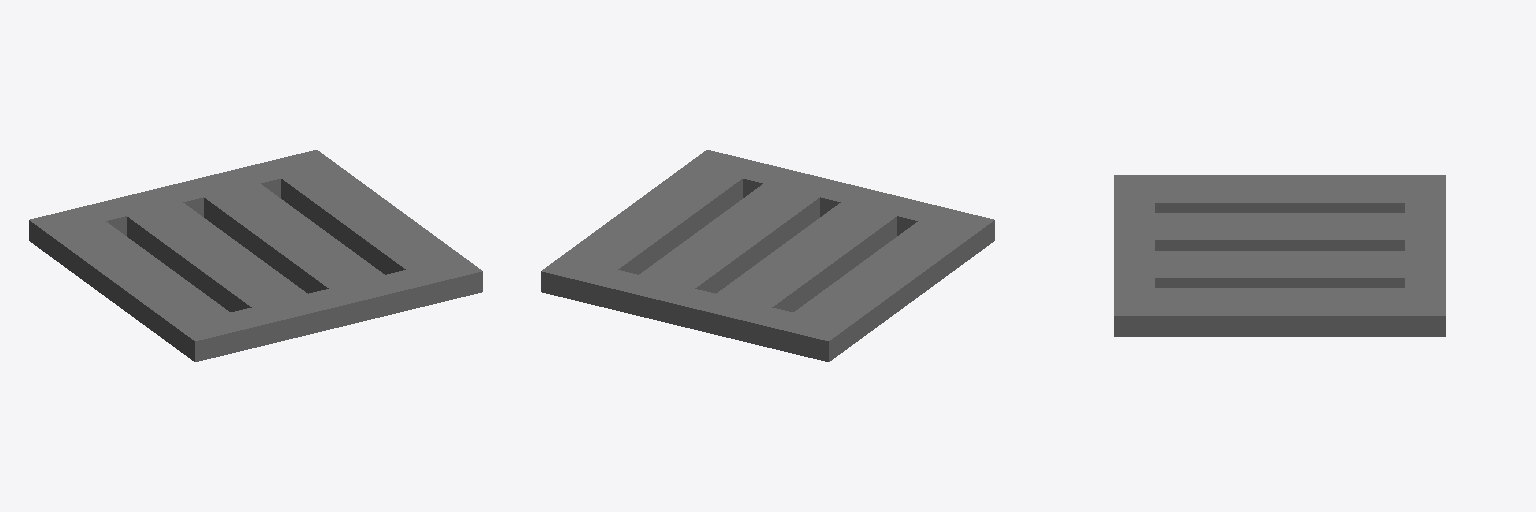
Rendered from triple_slit_plate.obj.
3 views of the same model, side by side, from view 1: azimuth 30°, elevation 25°; view 2: azimuth 150°, elevation 25°; view 3: azimuth 270°, elevation 25° (orthographic).
Visible parts, largest first — view 1: Object.1; view 2: Object.1; view 3: Object.1.
Part boxes in pixels (bbox=[...]): Object.1: bbox=[29, 150, 482, 361]; Object.1: bbox=[541, 150, 994, 361]; Object.1: bbox=[1114, 175, 1445, 336].
Size of the model in its own units: 40 by 2.78 by 40.